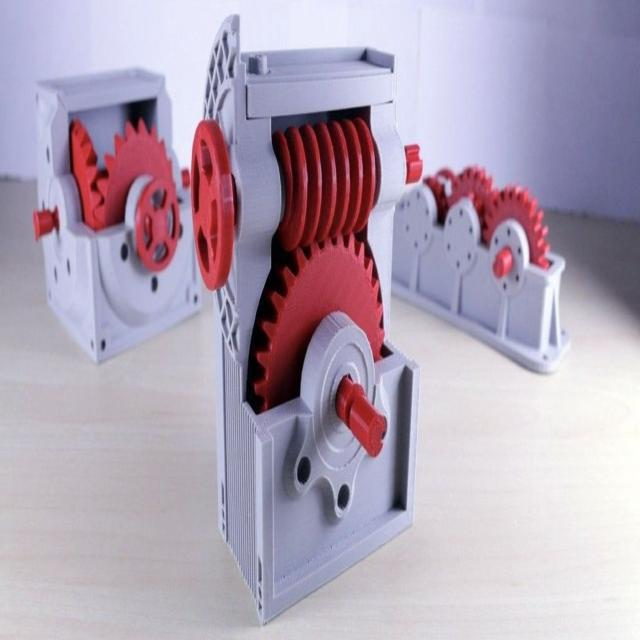Without deffect: (195, 20, 435, 625)
